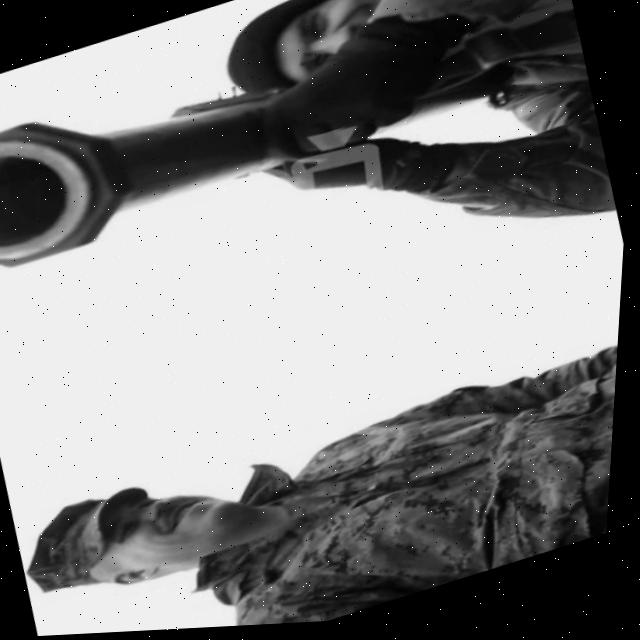rocket: (0, 40, 307, 305)
